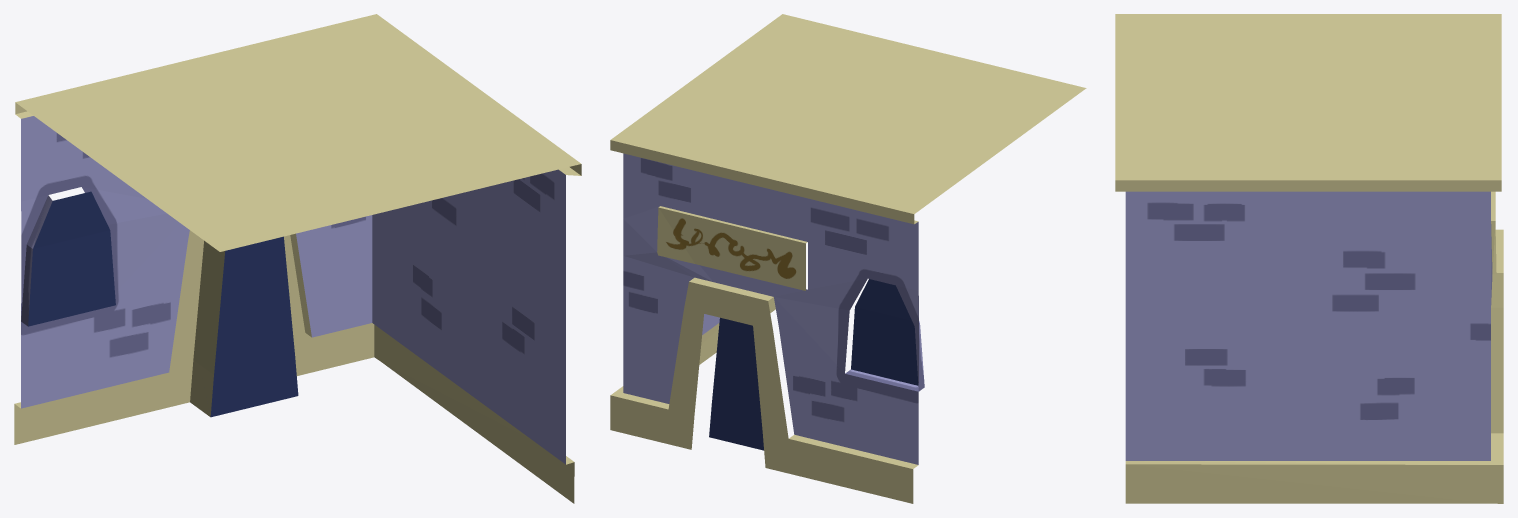
Rendered from Building_L_2_Main.fbx.
The picture shows the model from 3 angles, left to right: view 1: azimuth 30°, elevation 25°; view 2: azimuth 150°, elevation 25°; view 3: azimuth 270°, elevation 25°; orthographic projection. The views are drawn at different scales.
Visible parts, largest first — view 1: Building_L._2; view 2: Building_L._2; view 3: Building_L._2.
Part boxes in pixels (x1=…): Building_L._2: x1=14, y1=14, x2=581, y2=503; Building_L._2: x1=610, y1=14, x2=1086, y2=503; Building_L._2: x1=1115, y1=14, x2=1503, y2=503.
Bounding box in the file's own units: 412 × 374 × 406.
1 material, 1 textured.
